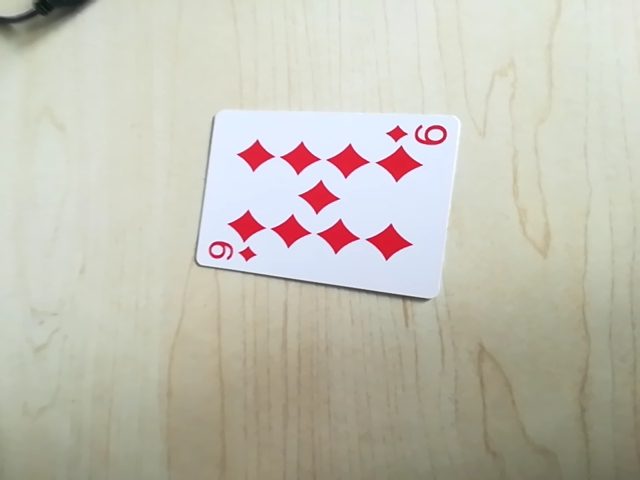fk 9: (383, 118, 450, 151), (202, 239, 259, 267)
